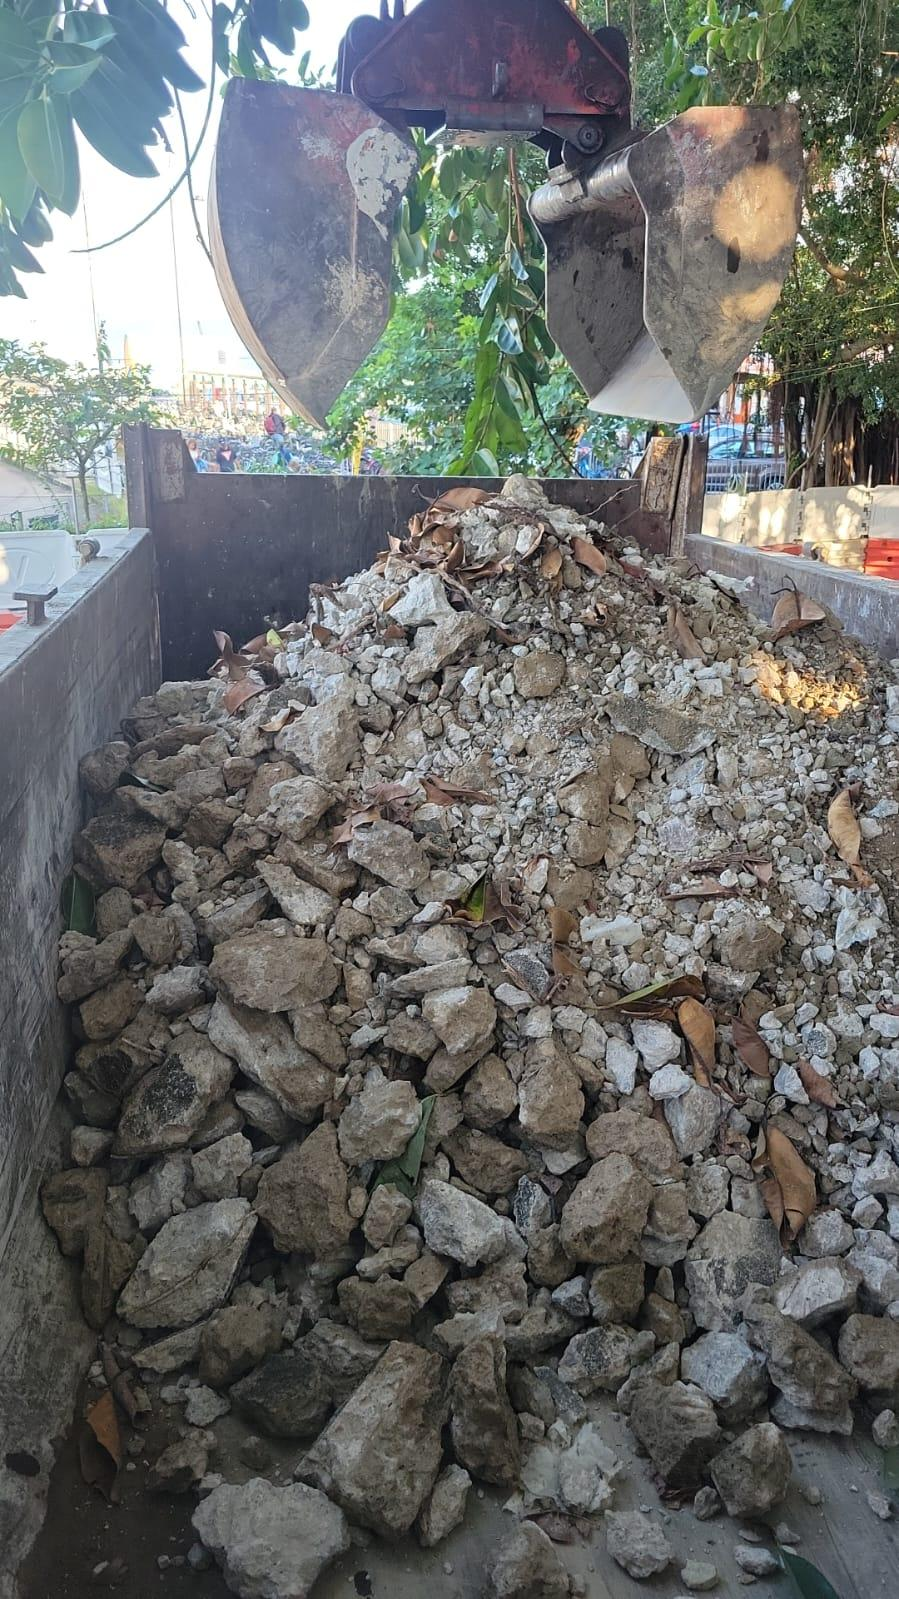dry: (62, 478, 878, 1582)
